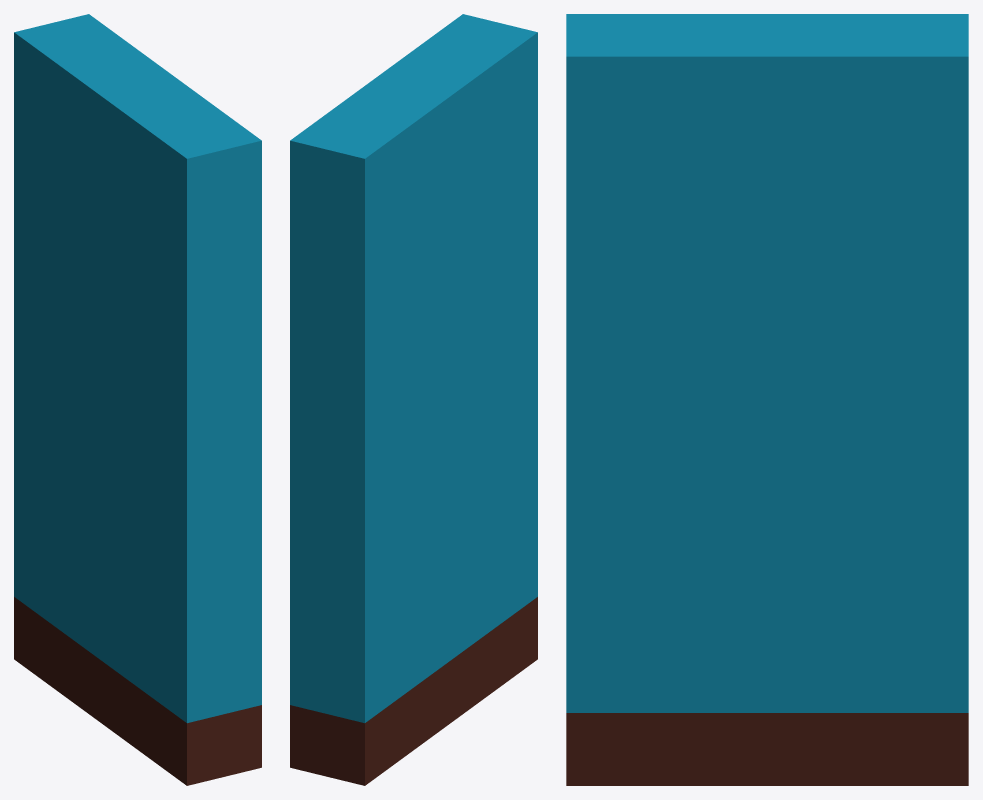
Rendered from Wall.fbx.
The picture shows the model from 3 angles, left to right: view 1: azimuth 30°, elevation 25°; view 2: azimuth 150°, elevation 25°; view 3: azimuth 270°, elevation 25°; orthographic projection. The views are drawn at different scales.
Visible parts, largest first — view 1: Wall; view 2: Wall; view 3: Wall.
Part boxes in pixels (<box>): Wall: <box>14,14,261,785</box>; Wall: <box>290,14,537,785</box>; Wall: <box>566,14,968,785</box>.
Size of the model in its own units: 50 by 400 by 200.
